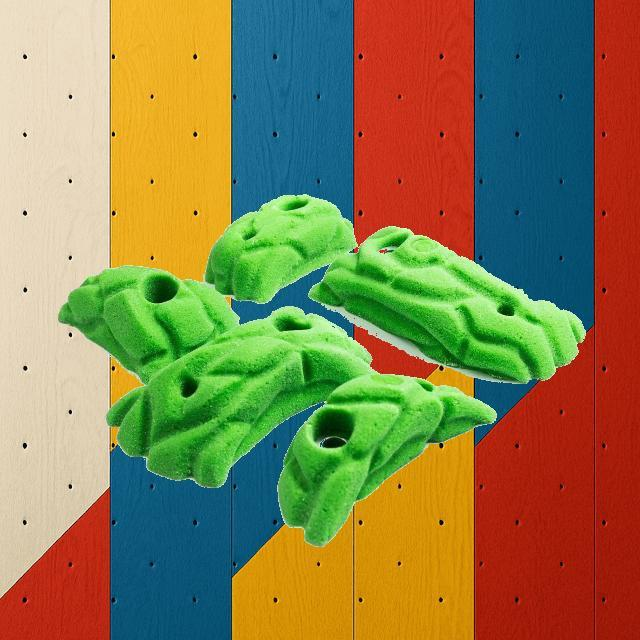Pinch: (104, 306, 380, 488), (306, 222, 586, 384), (276, 370, 498, 548), (55, 264, 239, 381), (203, 194, 357, 302)
